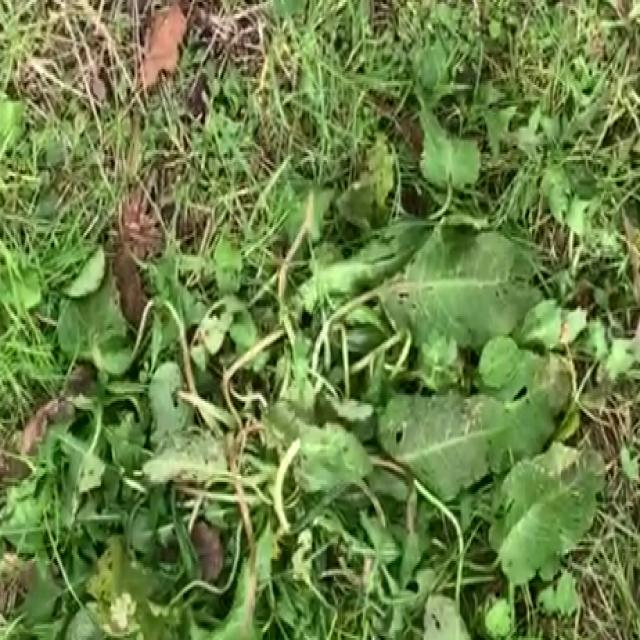organic waste: (36, 150, 612, 638)
